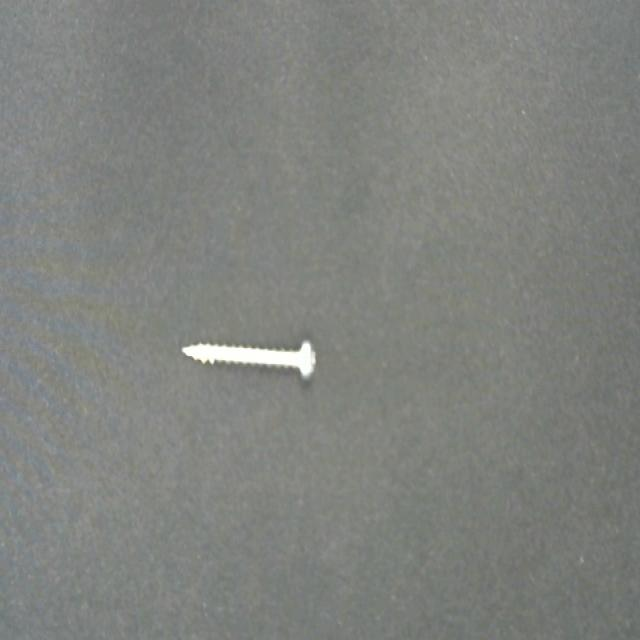SheetMetalScrew: (180, 337, 317, 380)
